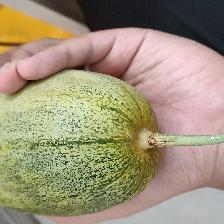gua: (31, 82, 169, 196)
